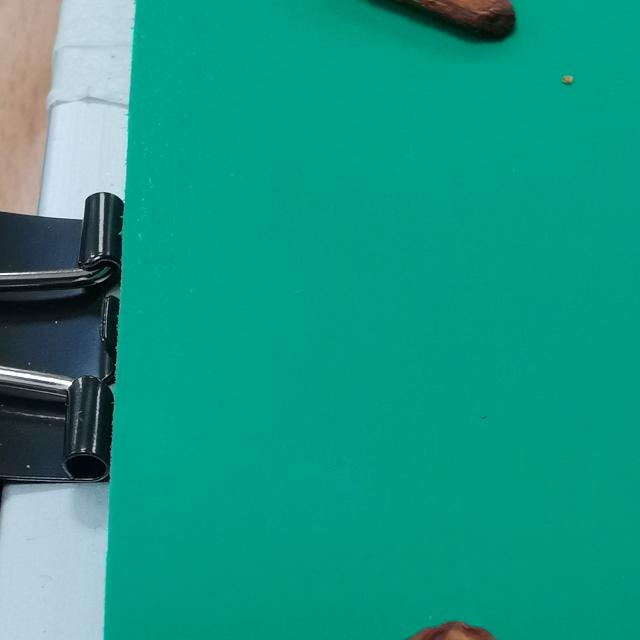Flat_cocoabeans: (252, 0, 552, 121), (317, 567, 554, 640)
